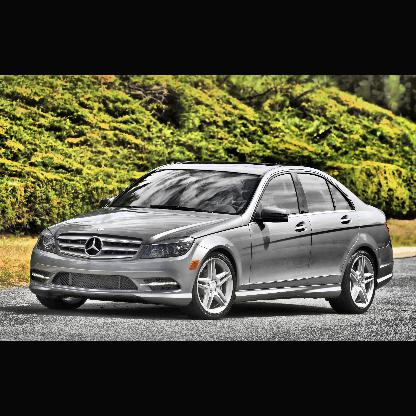Mercedes-Benz C-Class Sedan 2012: (31, 165, 396, 319)
